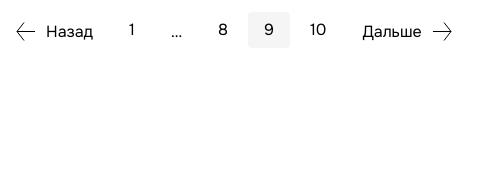
Scenario: Pagination › keeps the focus on the last page number after "Дальше" leads there
Step 1. Click the button "Дальше" → x=408, y=32, box [346,12,470,52]
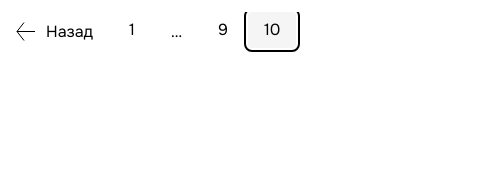
Expected: the button "Дальше" is gone
